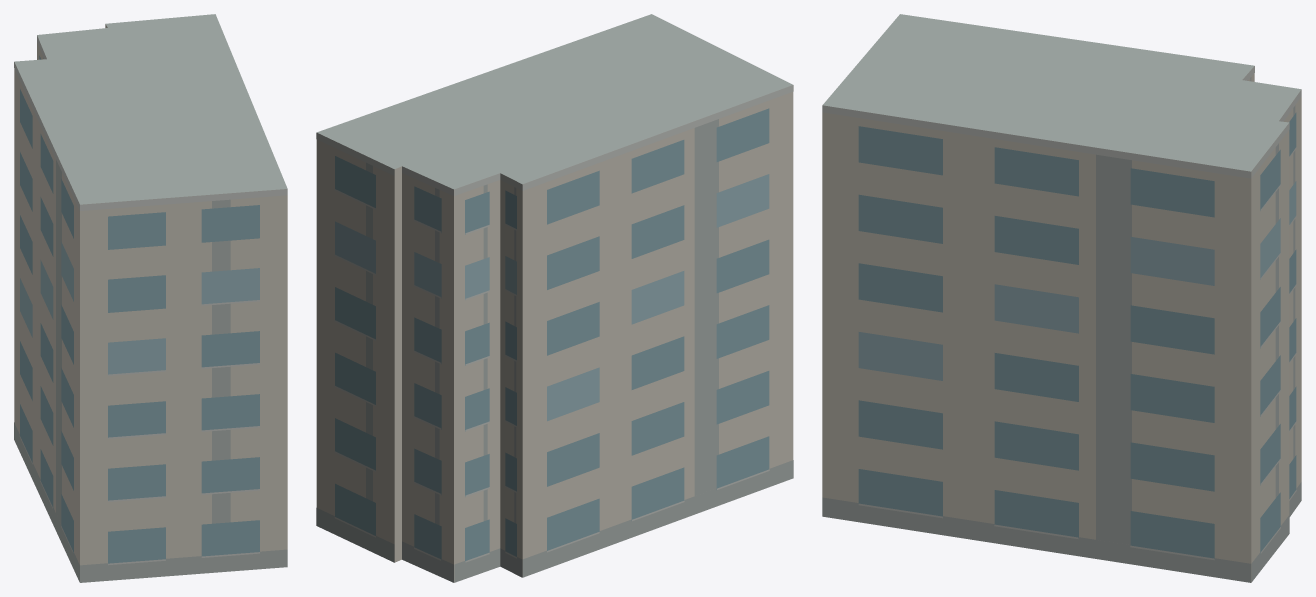
Rendered from survey-upis-32889276.glb.
The picture shows the model from 3 angles, left to right: view 1: azimuth 30°, elevation 25°; view 2: azimuth 150°, elevation 25°; view 3: azimuth 270°, elevation 25°; orthographic projection. The views are drawn at different scales.
Visible parts, largest first — view 1: survey-upis-32889276.tmp; view 2: survey-upis-32889276.tmp; view 3: survey-upis-32889276.tmp.
Part boxes in pixels (bbox=[...]): survey-upis-32889276.tmp: bbox=[14, 14, 287, 582]; survey-upis-32889276.tmp: bbox=[316, 14, 793, 582]; survey-upis-32889276.tmp: bbox=[822, 14, 1301, 582].
Size of the model in its own units: 11.72 by 14.25 by 15.06.
